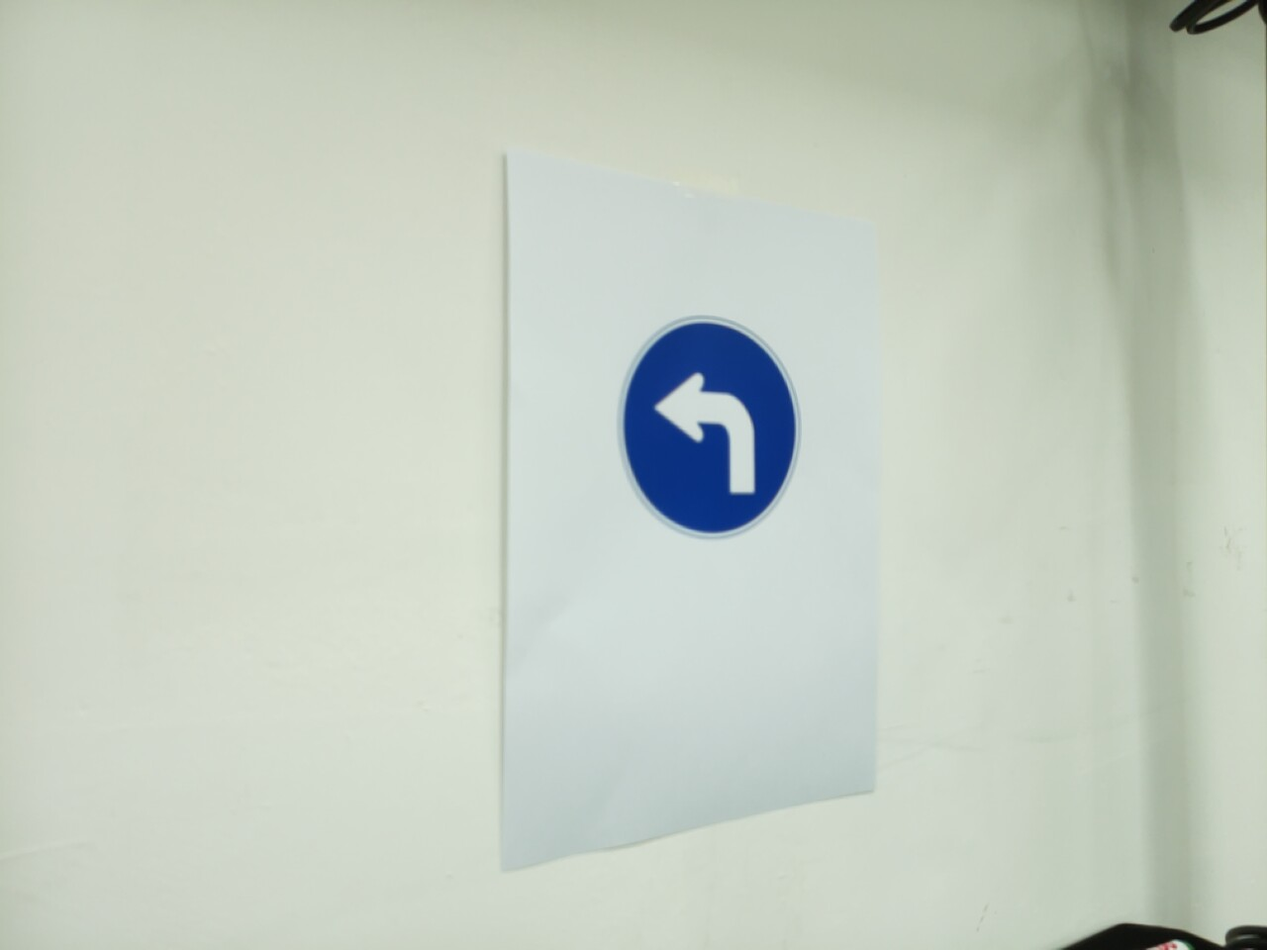left_turn: (617, 315, 803, 541)
